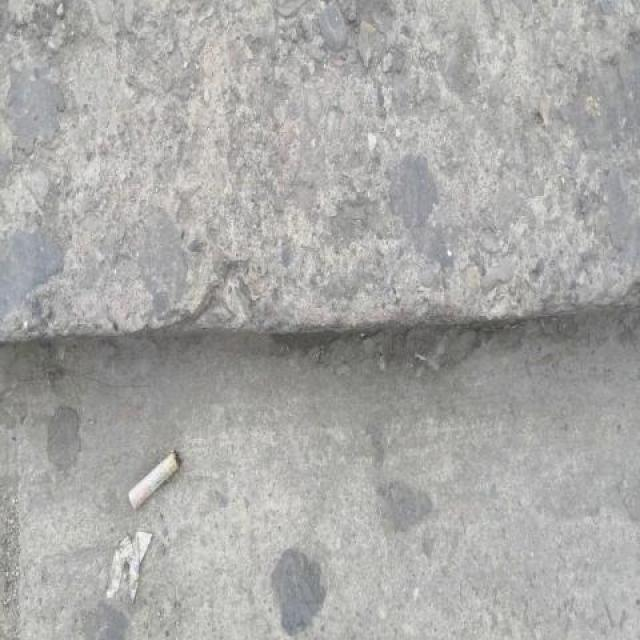non-organic waste: (124, 446, 184, 511)
